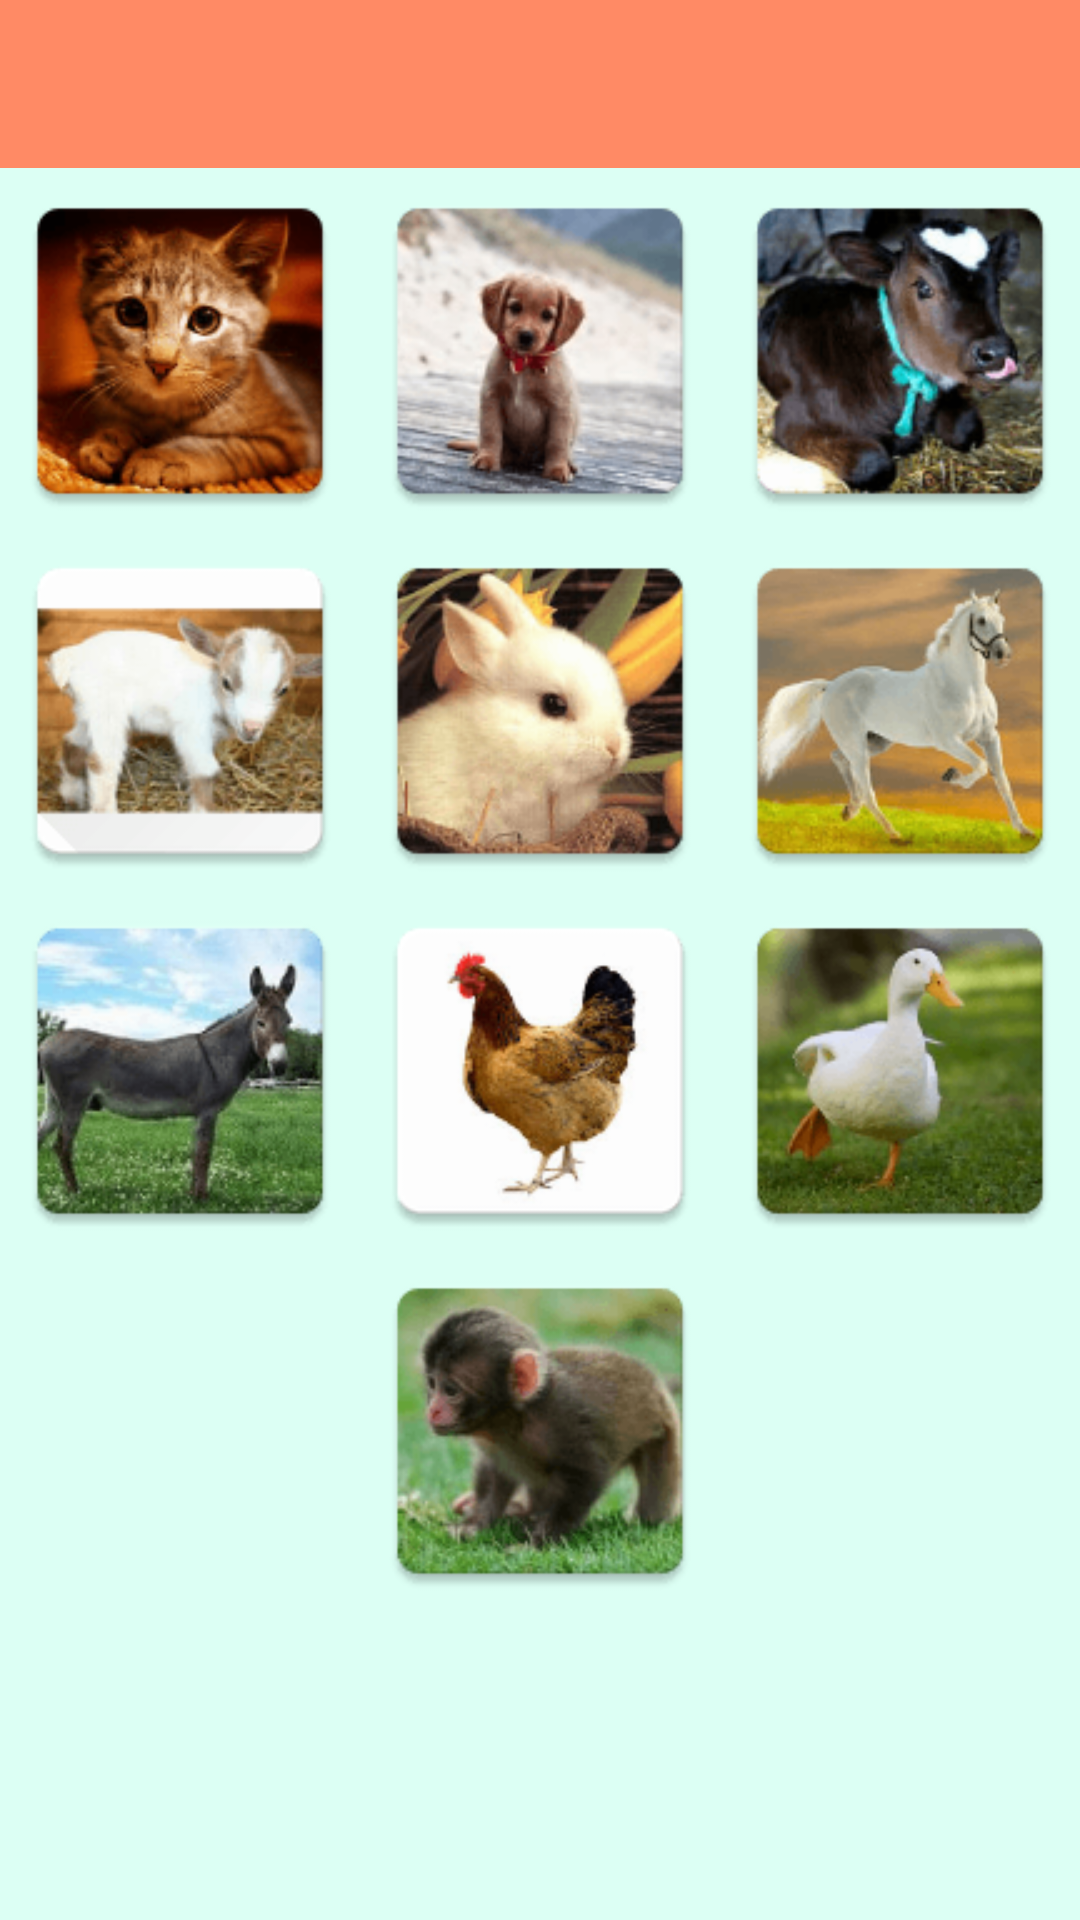

Screen size 1080 × 1920. Icon name, then its box in pixels as (x1, y1, x2, y2):
cat: (36, 207, 325, 503)
cow: (756, 207, 1045, 502)
dog: (396, 208, 685, 502)
donkey: (36, 928, 324, 1222)
duck: (756, 928, 1045, 1223)
goat: (36, 569, 325, 863)
hen: (397, 929, 685, 1223)
horse: (756, 568, 1044, 863)
monkey: (396, 1288, 685, 1582)
rabbit: (396, 567, 685, 863)
